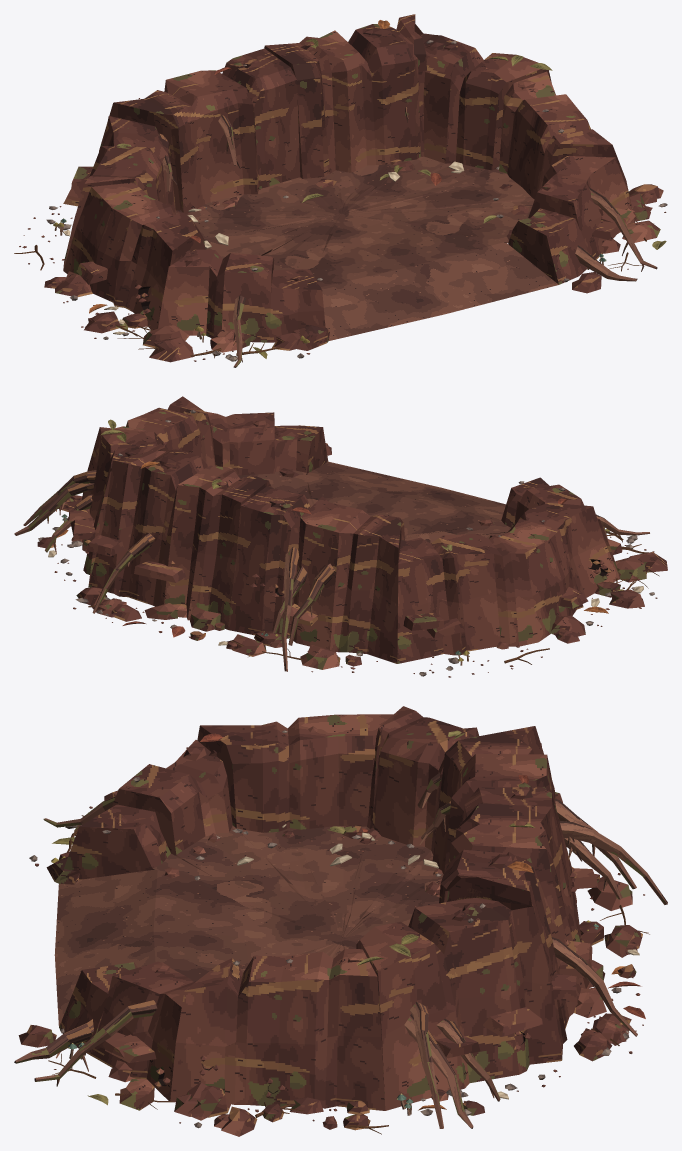
Rendered from SM_AN33_QueenBed.fbx.
3 renders of one model, top to bottom at view 1: azimuth 30°, elevation 25°; view 2: azimuth 150°, elevation 25°; view 3: azimuth 270°, elevation 25°, orthographic. The views are drawn at different scales.
Parts seen in each view (by area): view 1: AN33a_Earth, AN33a_Floor, AN33a_Props, AN33a_Root; view 2: AN33a_Earth, AN33a_Floor, AN33a_Root, AN33a_Props; view 3: AN33a_Earth, AN33a_Floor, AN33a_Root, AN33a_Props.
Part boxes in pixels (x1,y1,x2,y2): AN33a_Earth: (44, 14, 663, 362); AN33a_Floor: (176, 156, 558, 340); AN33a_Props: (14, 20, 667, 361); AN33a_Root: (158, 103, 657, 367); AN33a_Earth: (37, 396, 667, 669); AN33a_Floor: (239, 461, 510, 543); AN33a_Root: (14, 470, 649, 671); AN33a_Props: (38, 409, 659, 677); AN33a_Earth: (18, 706, 642, 1136); AN33a_Floor: (54, 825, 443, 1026); AN33a_Root: (14, 772, 667, 1128); AN33a_Props: (29, 721, 649, 1134).
Size of the model in its own units: 8.23 by 1.86 by 6.29.
